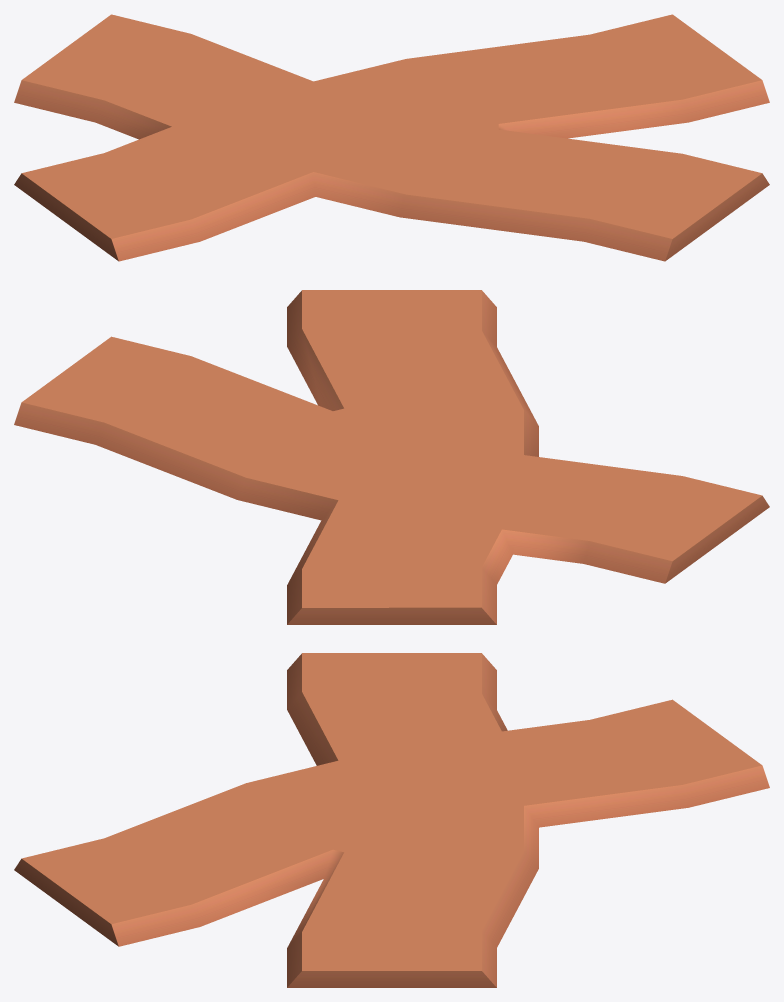
File: kenney-hexagon-path-intersectione.glb
3 views of the same model, one above another, from view 1: azimuth 30°, elevation 25°; view 2: azimuth 150°, elevation 25°; view 3: azimuth 270°, elevation 25° (orthographic).
Visible parts, largest first — view 1: path_intersectionE; view 2: path_intersectionE; view 3: path_intersectionE.
Part boxes in pixels (bbox=[...]): path_intersectionE: bbox=[14, 14, 769, 261]; path_intersectionE: bbox=[14, 290, 769, 624]; path_intersectionE: bbox=[14, 653, 769, 987].
Bounding box in the file's own units: 1 × 0.025 × 1.01.
Materials: 1 (1 with a texture image).
